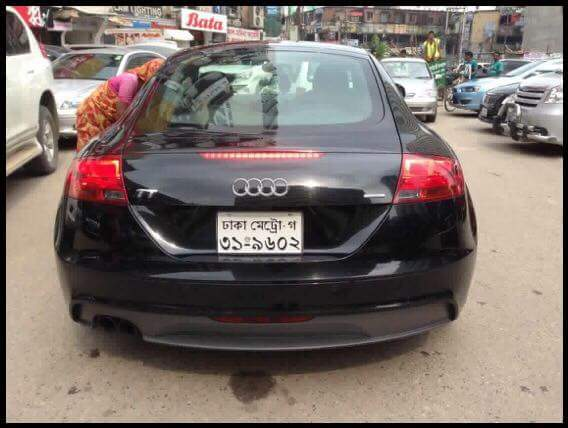registration_plate: (216, 210, 303, 255)
